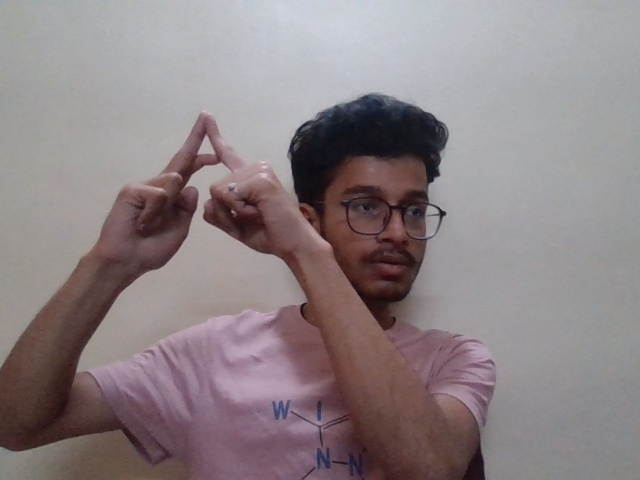A: (88, 108, 353, 282)
